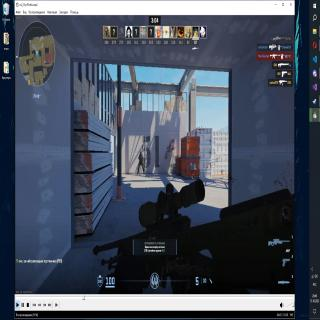CT-Body: (138, 151, 145, 174)
CT-Head: (139, 150, 143, 156)
